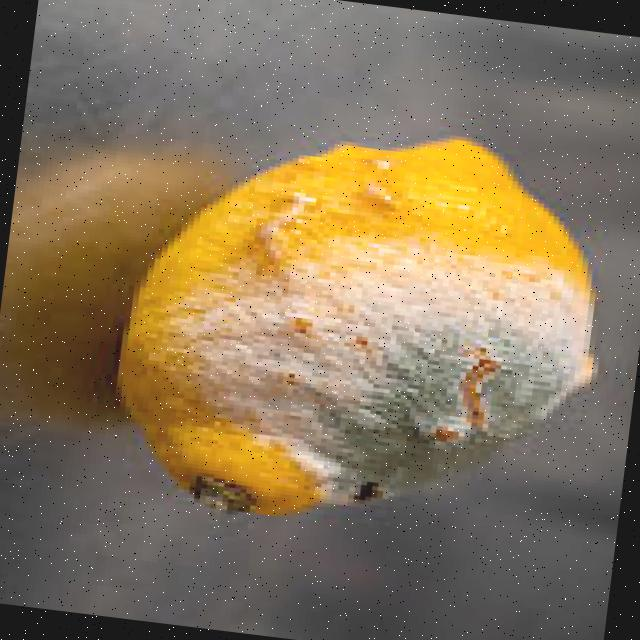Rotten: (99, 97, 622, 560)
